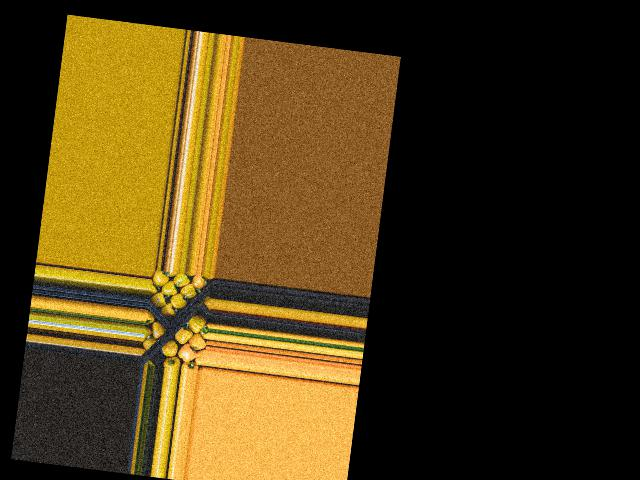bell_pepper: (149, 269, 167, 290)
